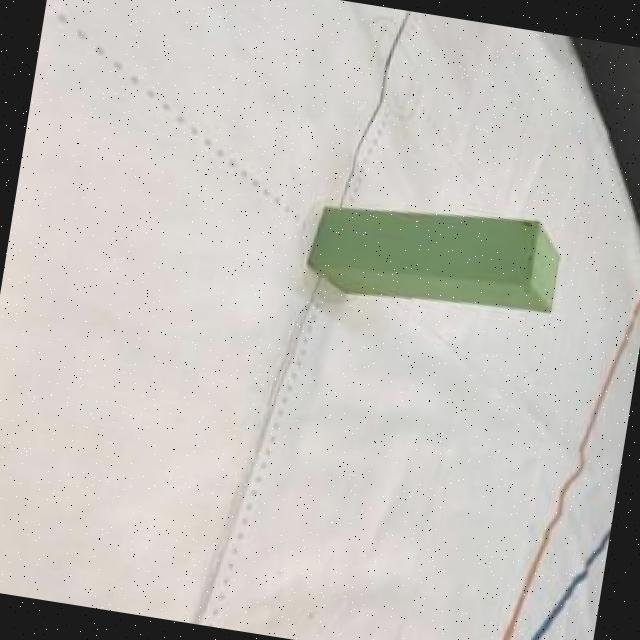greenbox: (303, 185, 566, 326)
